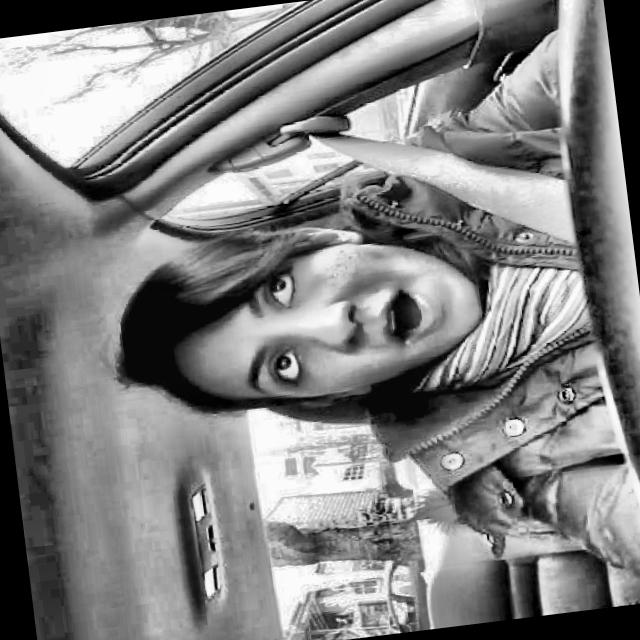open_eyes: (262, 340, 324, 400), (256, 258, 312, 317)
open_mouth: (366, 273, 455, 367)
